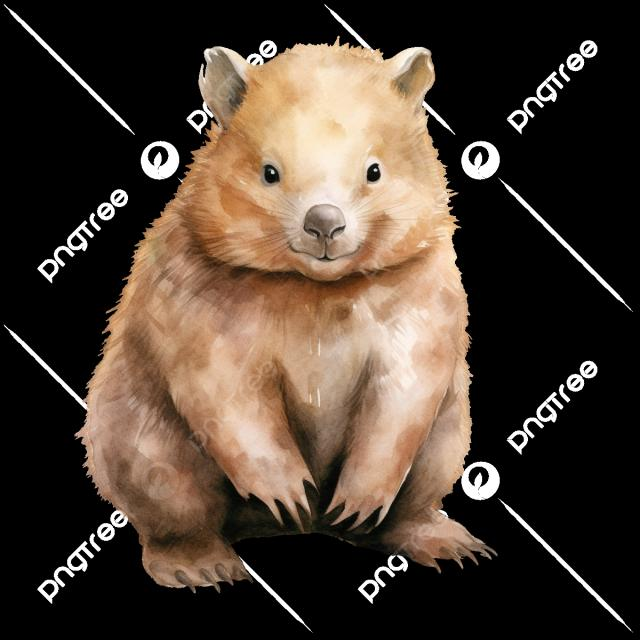Wombat: (92, 49, 489, 599)
